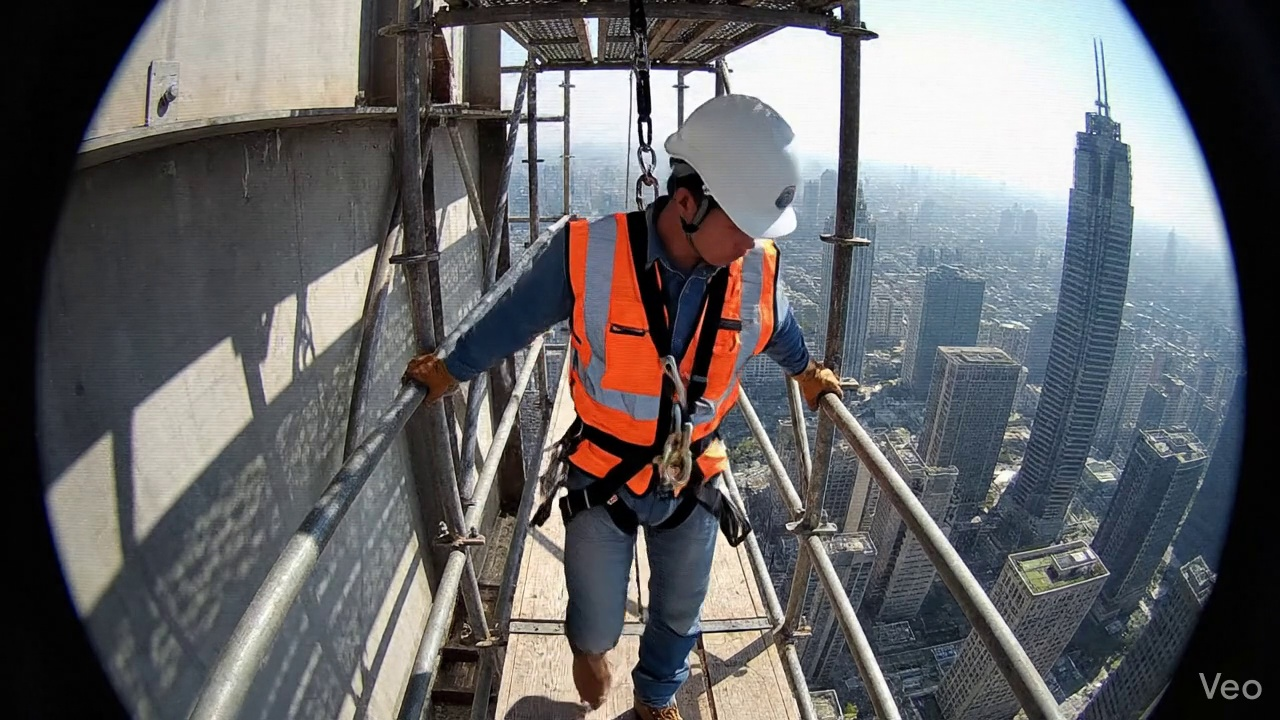person: (405, 94, 840, 719)
